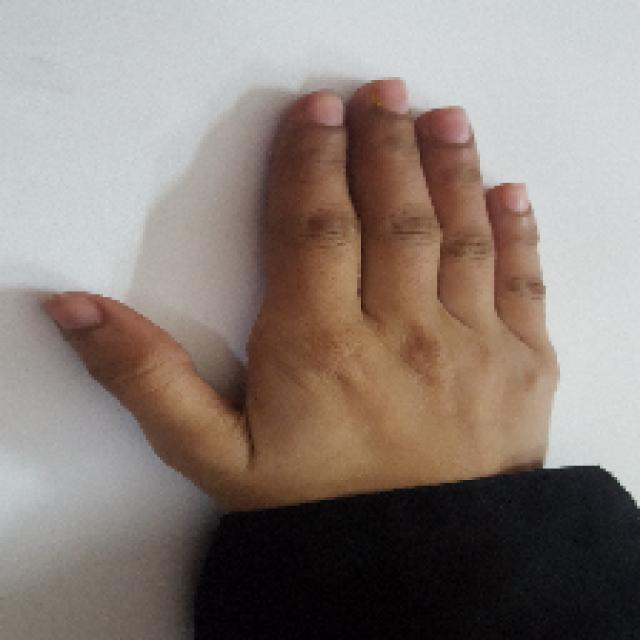Nail: (46, 292, 104, 329), (430, 107, 470, 144), (370, 78, 409, 114), (307, 91, 344, 126), (501, 182, 530, 212)
